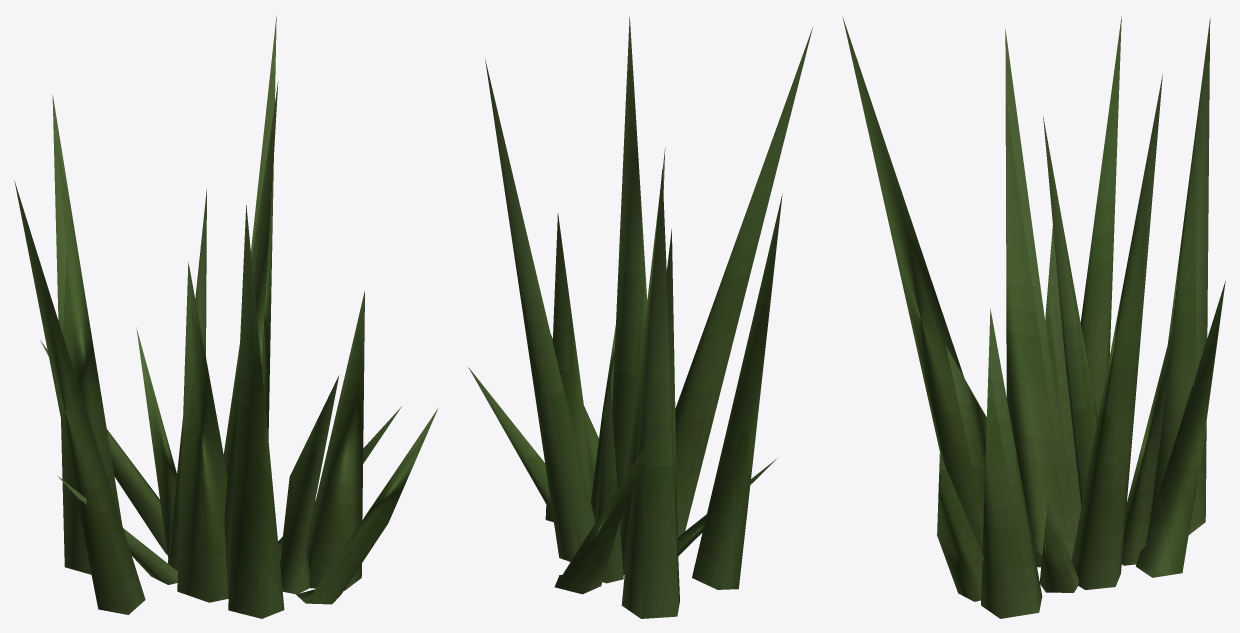
Rendered from jungle-fan-plant.lod2.glb.
The picture shows the model from 3 angles, left to right: view 1: azimuth 30°, elevation 25°; view 2: azimuth 150°, elevation 25°; view 3: azimuth 270°, elevation 25°; orthographic projection. The views are drawn at different scales.
Parts seen in each view (by area): view 1: SM_JunglePlants_FanPlant_A_LOD0.mo_MI_JunglePlants_FanPlant_; view 2: SM_JunglePlants_FanPlant_A_LOD0.mo_MI_JunglePlants_FanPlant_; view 3: SM_JunglePlants_FanPlant_A_LOD0.mo_MI_JunglePlants_FanPlant_.
Boxes of the visible parts, left/top/right/bottom form: SM_JunglePlants_FanPlant_A_LOD0.mo_MI_JunglePlants_FanPlant_: left=14, top=15, right=437, bottom=618; SM_JunglePlants_FanPlant_A_LOD0.mo_MI_JunglePlants_FanPlant_: left=468, top=16, right=812, bottom=618; SM_JunglePlants_FanPlant_A_LOD0.mo_MI_JunglePlants_FanPlant_: left=842, top=16, right=1225, bottom=618.
Bounding box in the file's own units: 0.5418 × 0.7645 × 0.4793.
1 material, 1 textured.
